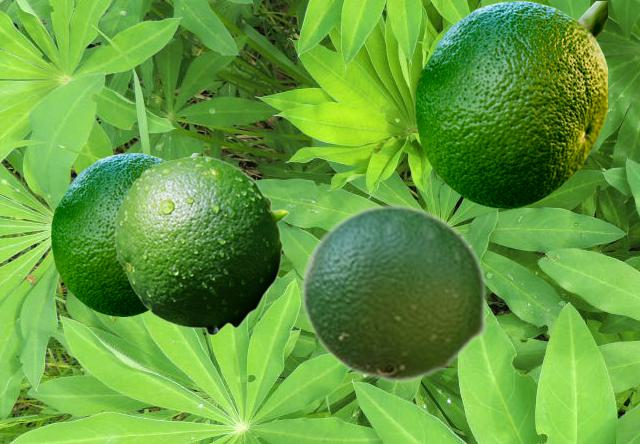dalandan: (415, 1, 606, 207), (300, 203, 487, 383), (114, 155, 288, 335), (51, 153, 201, 315)
